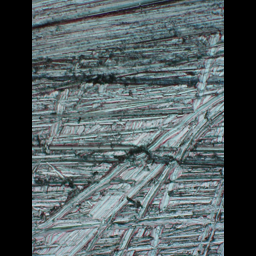d: (41, 86, 223, 255)
